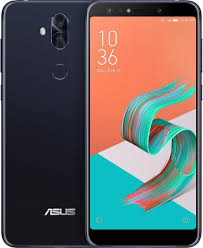asus: (79, 1, 200, 247), (1, 2, 91, 248)
